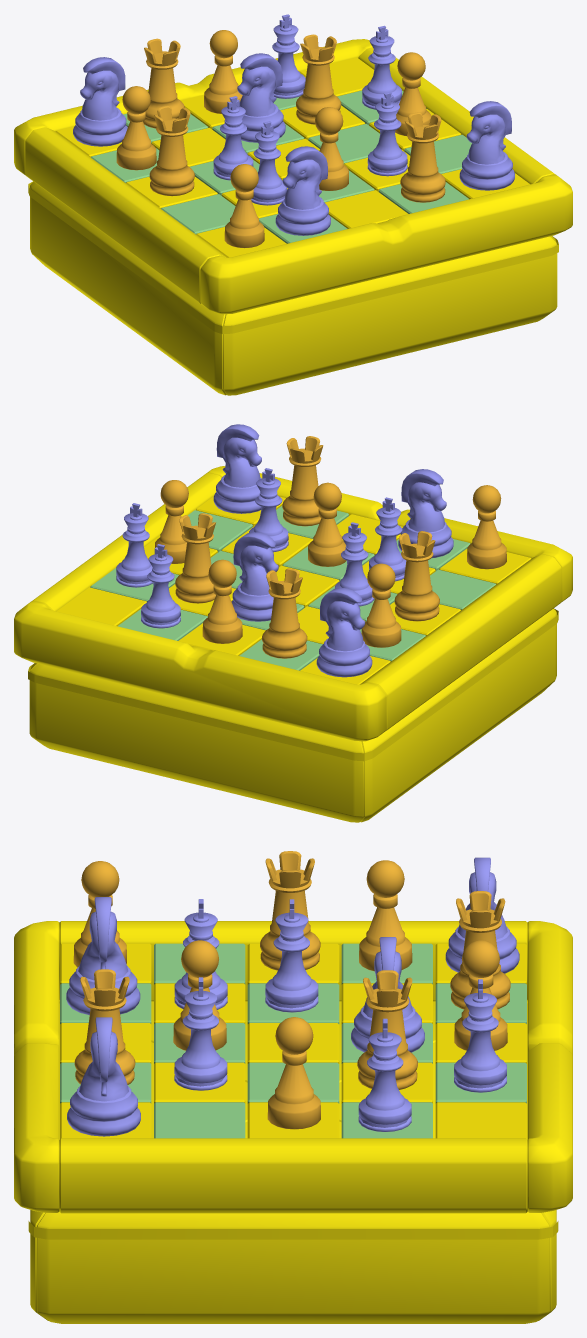
Rendered from level_168.fbx.
3 views of the same model, one above another, from view 1: azimuth 30°, elevation 25°; view 2: azimuth 150°, elevation 25°; view 3: azimuth 270°, elevation 25° (orthographic). The views are drawn at different scales.
Parts seen in each view (by area): view 1: Cube_L4_1, Cube_L2_2, Cube_L4, Cube_L2, Cube_L1_4, Cube_L1_17, Cube_L1_2, Cube_L2_1, Cube_L1_8, Cube_L2_3, Cube_L1_11, Cube_L1 (+34 smaller); view 2: Cube_L4_2, Cube_L2_1, Cube_L4, Cube_L2, Cube_L2_3, Cube_L1_2, Cube_L1_17, Cube_L2_2, Cube_L1_8, Cube_L1_4, Cube_L1_5, Cube_L1 (+32 smaller); view 3: Cube_L4_3, Cube_L2_3, Cube_L2_1, Cube_L2_2, Cube_L2, Cube_L1_17, Cube_L1_15, Cube_L1_4, Cube_L1_16, Cube_L1_12, Cube_L1_7, Cube_L1_14 (+39 smaller).
Boxes of the visible parts, <box> form: Cube_L4_1: <box>222,237,558,395</box>; Cube_L2_2: <box>200,174,572,314</box>; Cube_L4: <box>28,182,226,395</box>; Cube_L2: <box>25,127,226,303</box>; Cube_L1_4: <box>275,146,330,235</box>; Cube_L1_17: <box>459,101,514,190</box>; Cube_L1_2: <box>73,57,127,146</box>; Cube_L2_1: <box>14,39,372,175</box>; Cube_L1_8: <box>237,53,285,142</box>; Cube_L2_3: <box>358,47,554,184</box>; Cube_L1_11: <box>400,112,445,202</box>; Cube_L1: <box>149,105,194,196</box>; Cube_L4_2: <box>28,664,364,822</box>; Cube_L2_1: <box>14,601,386,741</box>; Cube_L4: <box>360,609,558,822</box>; Cube_L2: <box>360,554,561,730</box>; Cube_L2_3: <box>32,473,221,611</box>; Cube_L1_2: <box>316,588,372,677</box>; Cube_L1_17: <box>213,424,261,513</box>; Cube_L2_2: <box>207,466,572,602</box>; Cube_L1_8: <box>231,532,278,621</box>; Cube_L1_4: <box>398,469,453,558</box>; Cube_L1_5: <box>262,568,307,658</box>; Cube_L1: <box>394,531,439,621</box>; Cube_L4_3: <box>34,1121,552,1323</box>; Cube_L2_3: <box>59,1138,527,1213</box>; Cube_L2_1: <box>527,921,572,1212</box>; Cube_L2_2: <box>14,921,59,1212</box>; Cube_L2: <box>59,921,527,1001</box>; Cube_L1_17: <box>67,1017,140,1136</box>; Cube_L1_15: <box>267,1017,320,1129</box>; Cube_L1_4: <box>66,897,140,1014</box>; Cube_L1_16: <box>358,1018,411,1131</box>; Cube_L1_12: <box>174,977,227,1090</box>; Cube_L1_7: <box>265,899,318,1012</box>; Cube_L1_14: <box>454,979,506,1092</box>.
Size of the model in its own units: 15.67 by 8.95 by 15.67.
